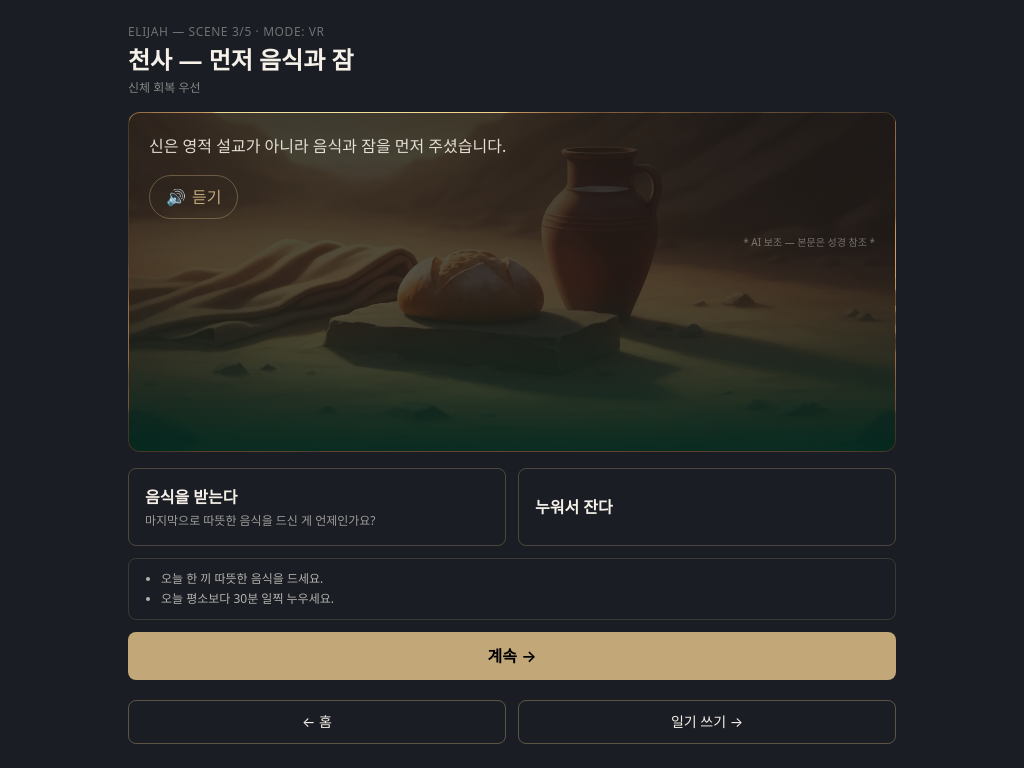
엘리야 미션 — 씬 상태 기계 › 몸 돌봄 동작은 누른 것만 체크 표시된다 — 강제하지 않는 권유
Click the button "음식을 받는다 마지막으로 따뜻한 음식을 드신 게 언제인가요?".
click(191, 497)  # box [128,468,506,546]
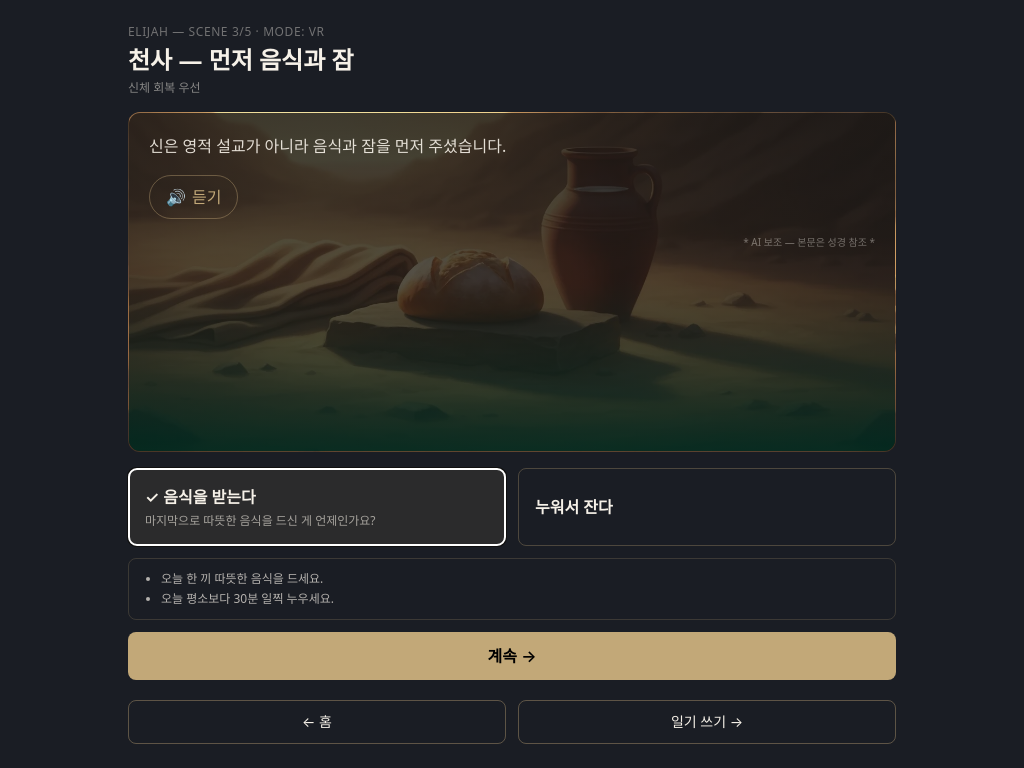
Expected: the button "누워서 잔다" does not show "✓", [518,468,896,546]
Now the button "✓ 음식을 받는다 마지막으로 따뜻한 음식을 드신 게 언제인가요?" is shown, box [128,468,506,546]
